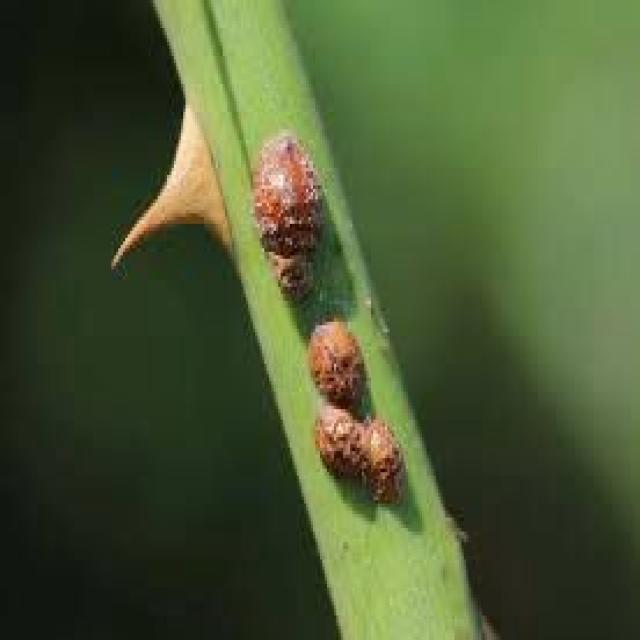Black Scale: (311, 318, 403, 500), (253, 129, 343, 301)
